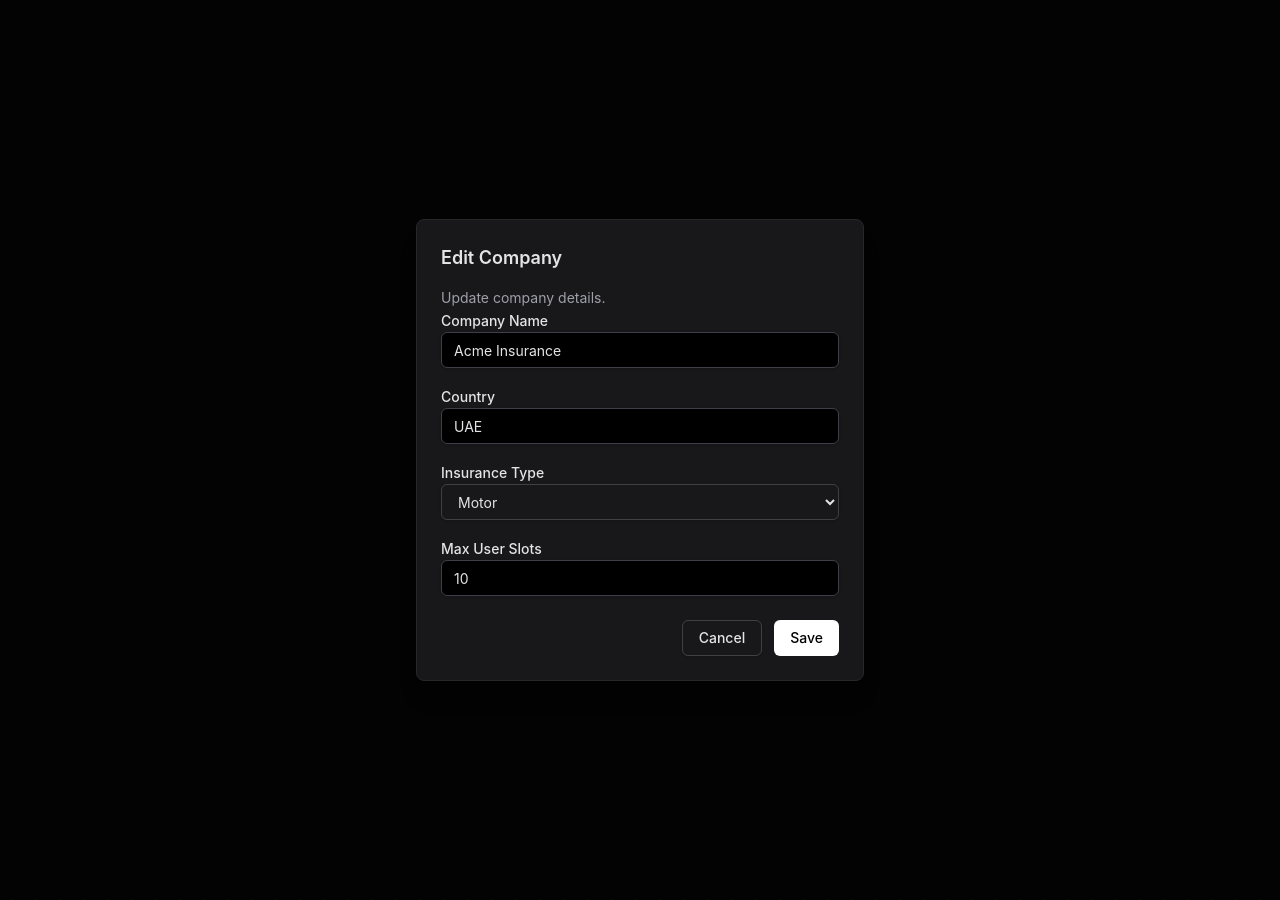
Test: EditCompanyDialog › Form submission › should show error message on submission failure
Replace the text in the field showing "Acme Insurance" with "New Name" at (640, 350), box x1=441 y1=332 x2=839 y2=368
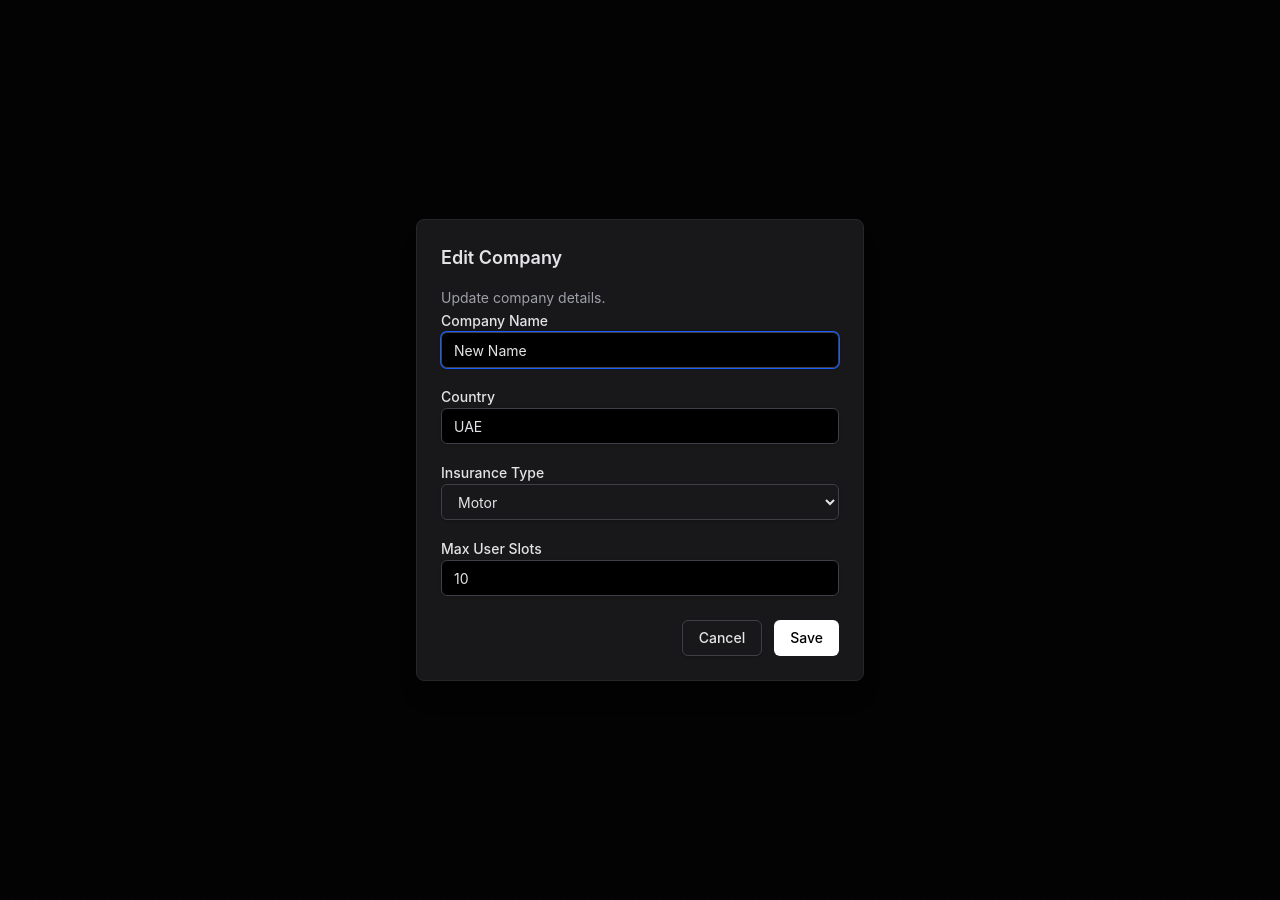
Click the button "Save" at (807, 638), box x1=774 y1=620 x2=839 y2=656
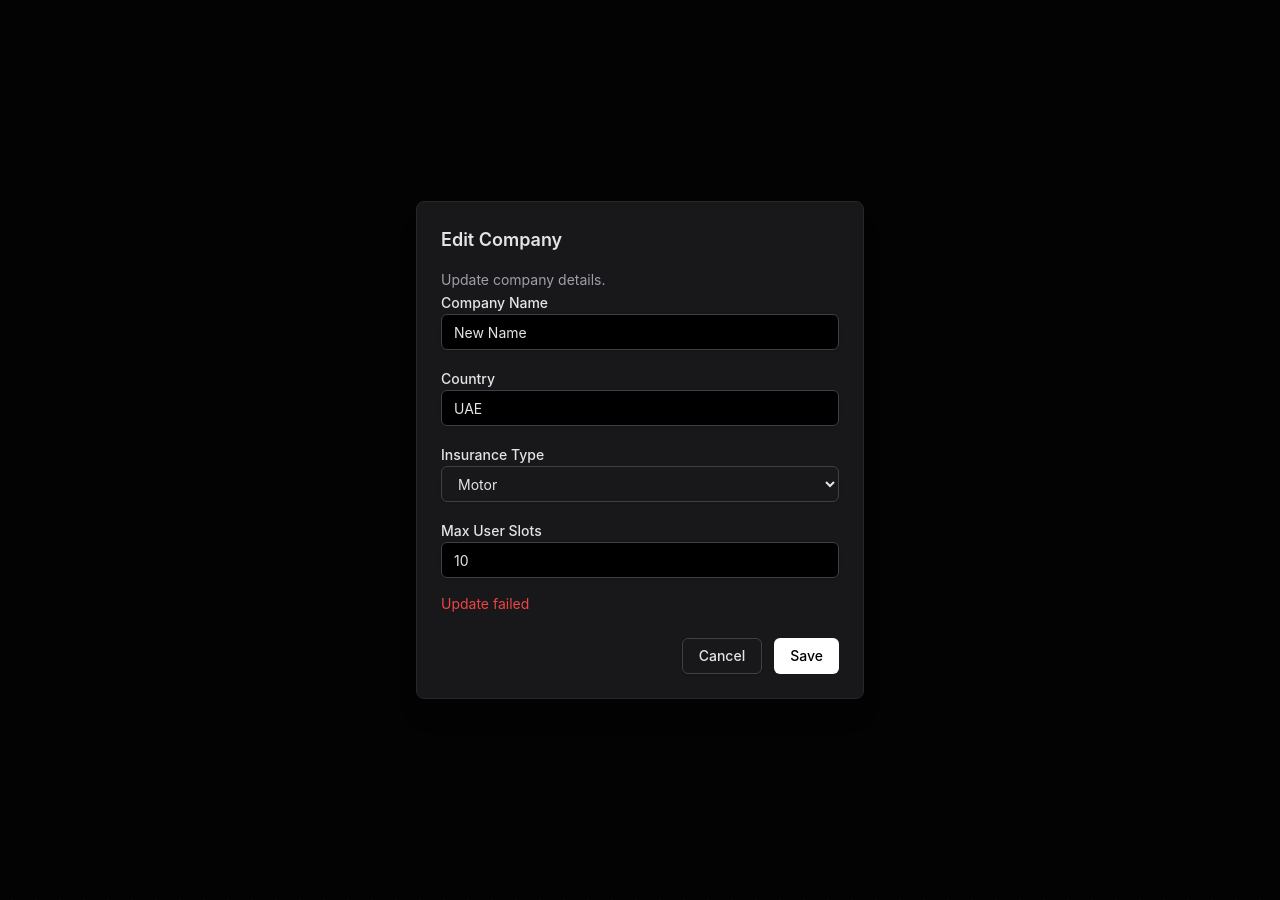
Now the text "Update failed" is shown, box x1=441 y1=595 x2=529 y2=612
